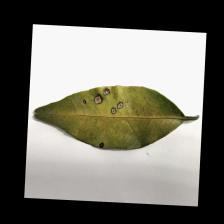canker: (72, 74, 132, 152)
